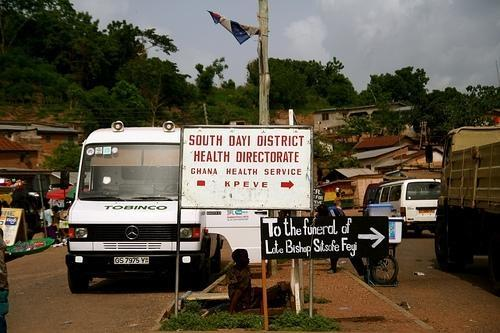bicycle: (370, 254, 400, 284)
bus: (66, 127, 267, 294)
car: (378, 178, 440, 222), (363, 182, 388, 215)
motorcycle: (368, 252, 400, 284)
truck: (64, 120, 267, 294), (426, 126, 500, 290)
